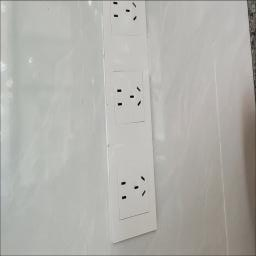outlet: (98, 0, 155, 250)
